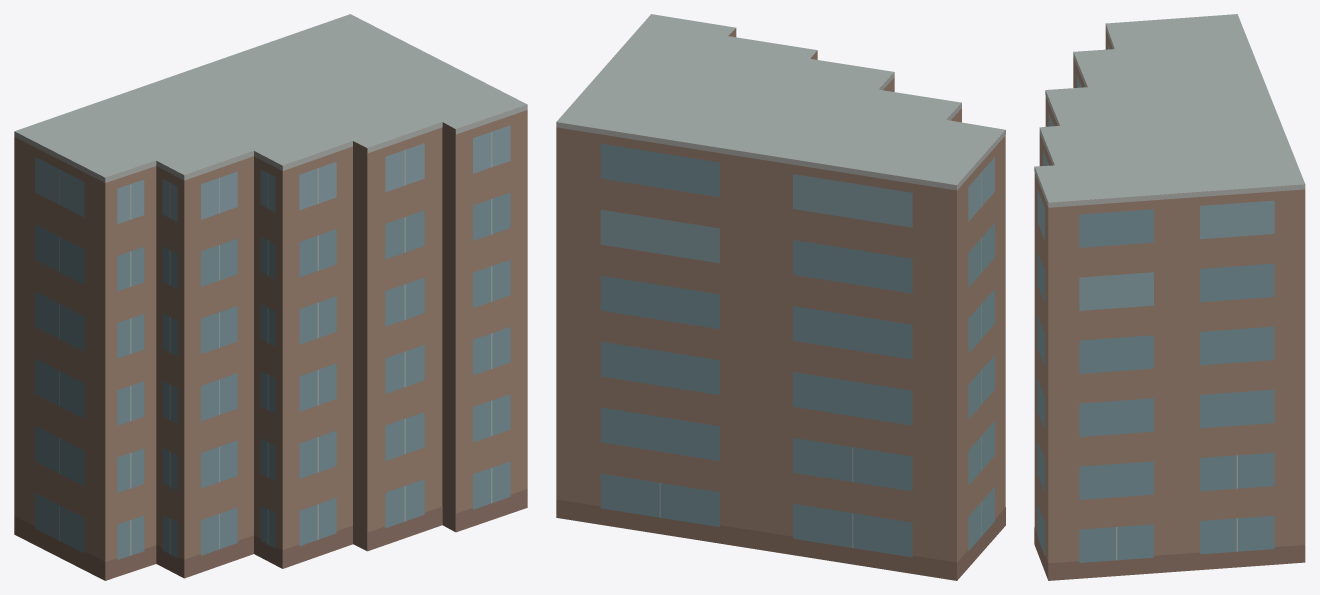
File: survey-upis-32935882.glb
3 views of the same model, side by side, from view 1: azimuth 30°, elevation 25°; view 2: azimuth 150°, elevation 25°; view 3: azimuth 270°, elevation 25° (orthographic). The views are drawn at different scales.
Parts seen in each view (by area): view 1: survey-upis-32935882.tmp; view 2: survey-upis-32935882.tmp; view 3: survey-upis-32935882.tmp.
Boxes of the visible parts, <box> form: survey-upis-32935882.tmp: <box>14,14,527,580</box>; survey-upis-32935882.tmp: <box>556,14,1005,580</box>; survey-upis-32935882.tmp: <box>1034,14,1305,580</box>.
Bounding box in the file's own units: 19.6 × 18.3 × 11.89.
